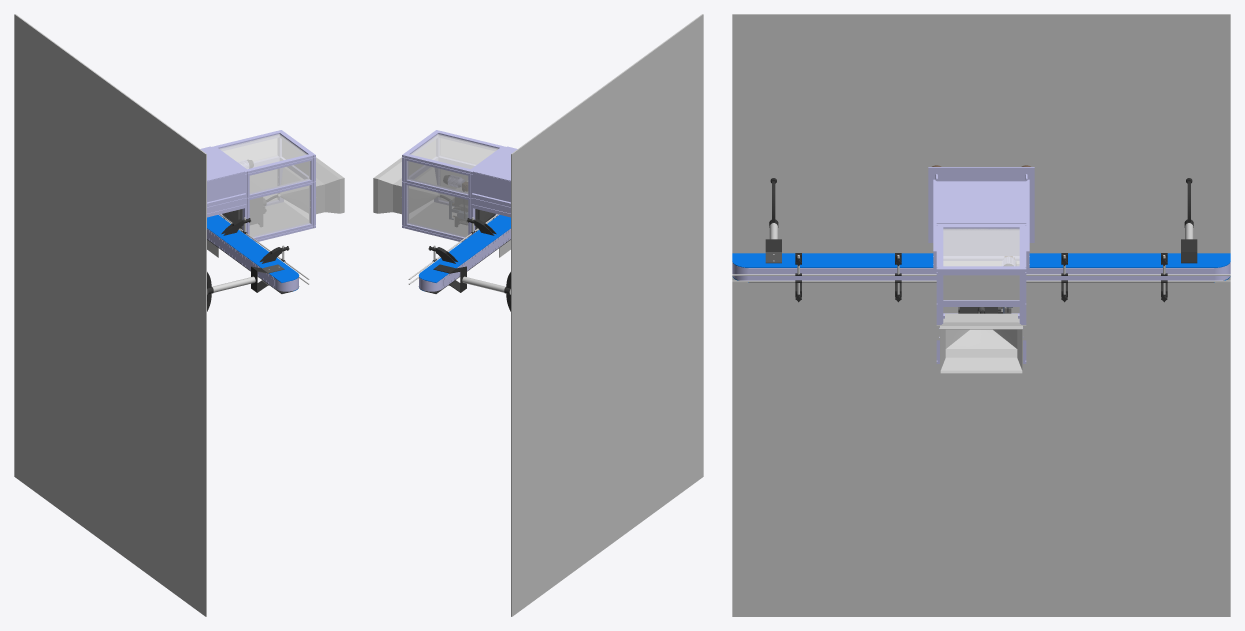
Rendered from Scene_Remplissage_GLB.gltf.
3 renders of one model, left to right at view 1: azimuth 30°, elevation 25°; view 2: azimuth 150°, elevation 25°; view 3: azimuth 270°, elevation 25°, orthographic. The views are drawn at different scales.
Parts seen in each view (by area): view 1: plan-post005, Cadre_Machine_Remplissage001, cadre_convoyeur_remplissage004, plaque_Laterale_remplissage001, Tremie_Remplissage, Plaque_deriere_Remplissage, Plaque_Lateral_2_Remplissage001, Plaque_frontale_remplissage, chain_convoyeur_Remplissage, Cadre_Machine_Remplissage006, Cadre_Machine_Remplissage005, Plaque_Lateral_2_Remplissage (+1 smaller); view 2: plan-post005, Cadre_Machine_Remplissage001, cadre_convoyeur_remplissage004, plaque_Laterale_remplissage, Tremie_Remplissage, Plaque_deriere_Remplissage, Plaque_Lateral_2_Remplissage, Plaque_frontale_remplissage, chain_convoyeur_Remplissage, Cadre_Machine_Remplissage006, Plaque_Lateral_2_Remplissage001, Cadre_Machine_Remplissage005 (+1 smaller); view 3: plan-post005, cadre_convoyeur_remplissage004, Tremie_Remplissage, chain_convoyeur_Remplissage, Cadre_Machine_Remplissage001, Cadre_Machine_Remplissage005, Plaque_deriere_Remplissage, Cadre_Machine_Remplissage002, Plaque_Haut_Remplissage, Cadre_Machine_Remplissage006.
Boxes of the visible parts, x1,y1,x2,y2 form: plan-post005: (14, 14, 206, 616); Cadre_Machine_Remplissage001: (212, 130, 315, 242); cadre_convoyeur_remplissage004: (207, 214, 309, 294); plaque_Laterale_remplissage001: (249, 185, 310, 238); Tremie_Remplissage: (278, 157, 344, 214); Plaque_deriere_Remplissage: (219, 134, 307, 169); Plaque_Lateral_2_Remplissage001: (249, 161, 310, 194); Plaque_frontale_remplissage: (222, 202, 308, 235); chain_convoyeur_Remplissage: (207, 228, 298, 291); Cadre_Machine_Remplissage006: (207, 172, 244, 202); Cadre_Machine_Remplissage005: (200, 146, 244, 181); Plaque_Lateral_2_Remplissage: (224, 138, 277, 161); plan-post005: (511, 14, 703, 616); Cadre_Machine_Remplissage001: (402, 130, 505, 242); cadre_convoyeur_remplissage004: (408, 214, 510, 294); plaque_Laterale_remplissage: (407, 185, 468, 238); Tremie_Remplissage: (373, 157, 439, 214); Plaque_deriere_Remplissage: (410, 134, 498, 169); Plaque_Lateral_2_Remplissage: (407, 161, 468, 194); Plaque_frontale_remplissage: (409, 202, 495, 235); chain_convoyeur_Remplissage: (419, 228, 510, 291); Cadre_Machine_Remplissage006: (473, 172, 510, 202); Plaque_Lateral_2_Remplissage001: (440, 138, 493, 164); Cadre_Machine_Remplissage005: (473, 146, 517, 181); plan-post005: (732, 14, 1230, 616); cadre_convoyeur_remplissage004: (732, 219, 1230, 302); Tremie_Remplissage: (936, 313, 1026, 373); chain_convoyeur_Remplissage: (732, 262, 1230, 280); Cadre_Machine_Remplissage001: (936, 224, 1026, 363); Cadre_Machine_Remplissage005: (936, 181, 1026, 223); Plaque_deriere_Remplissage: (943, 228, 1019, 266); Cadre_Machine_Remplissage002: (928, 165, 1034, 269); Plaque_Haut_Remplissage: (943, 275, 1019, 300); Cadre_Machine_Remplissage006: (937, 224, 1025, 265).
Size of the model in its own units: 1.98 by 4 by 3.
